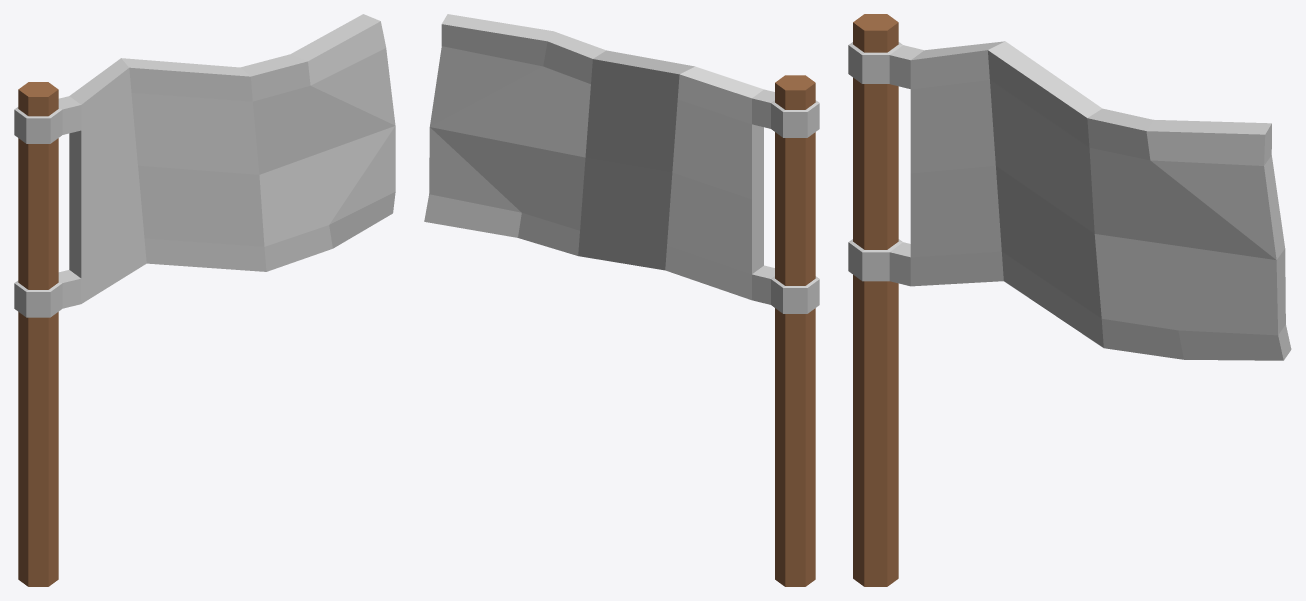
File: Test_Flag.glb
The picture shows the model from 3 angles, left to right: view 1: azimuth 30°, elevation 25°; view 2: azimuth 150°, elevation 25°; view 3: azimuth 330°, elevation 25°; orthographic projection. The views are drawn at different scales.
Visible parts, largest first — view 1: Flag; view 2: Flag; view 3: Flag.
Part boxes in pixels (<box>): Flag: <box>14,14,395,586</box>; Flag: <box>424,14,819,586</box>; Flag: <box>848,14,1291,586</box>.
Bounding box in the file's own units: 1.92 × 2.4 × 0.2778.
